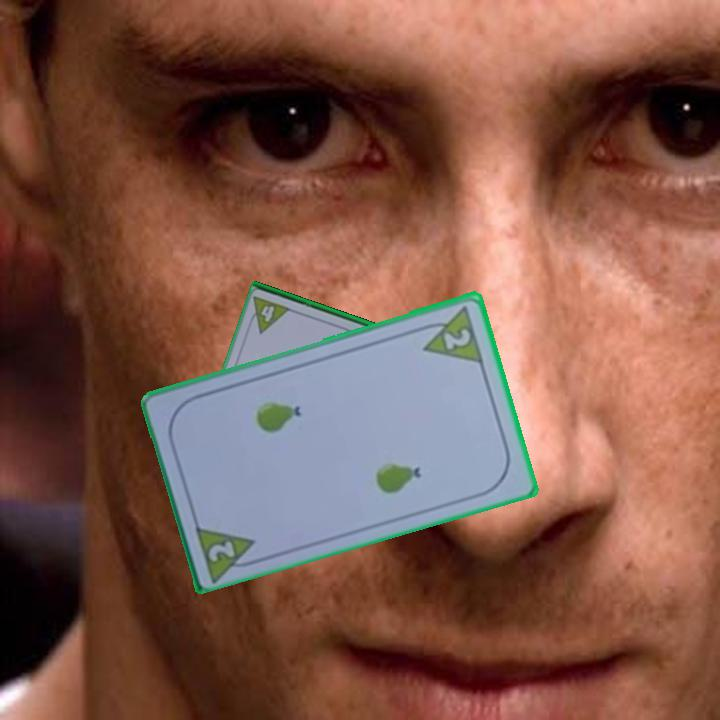2p: (415, 302, 487, 366), (204, 536, 239, 565)
4p: (244, 293, 294, 336)
